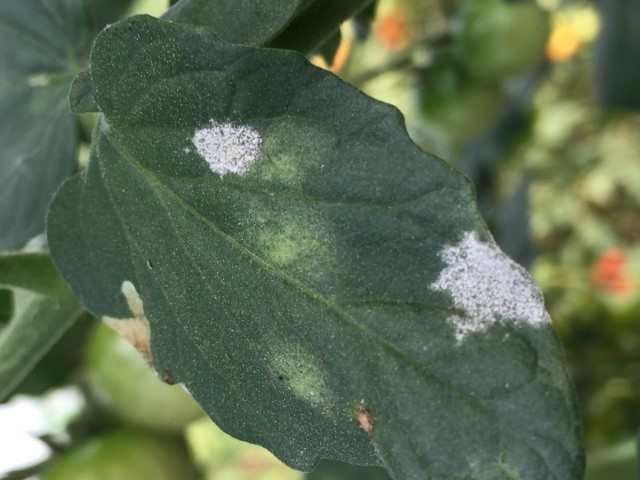oidio: (429, 229, 553, 347), (191, 117, 263, 178)
